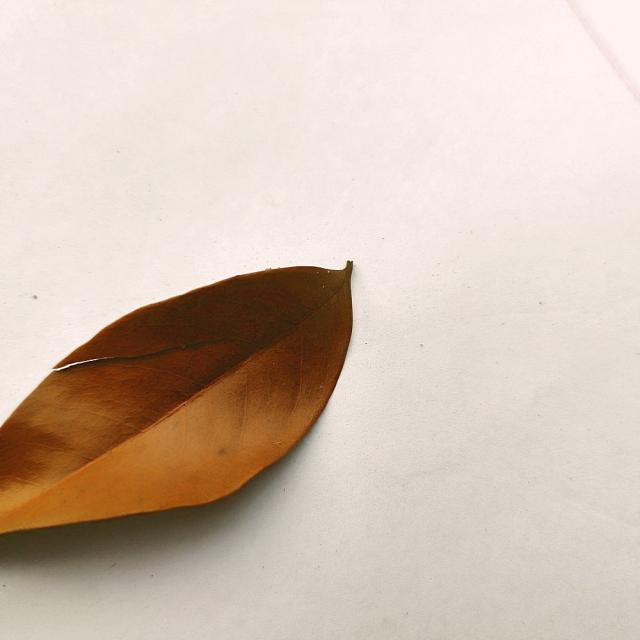Dry_Leaf-Lychee: (0, 263, 353, 538)
